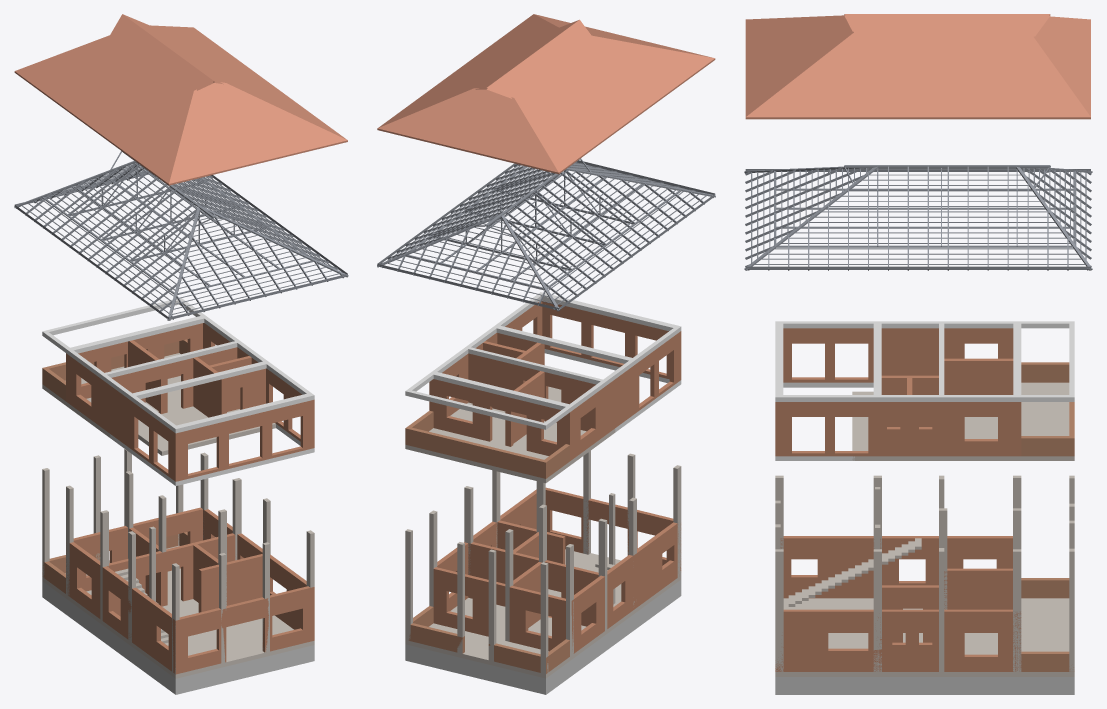
File: konkan_house_exploded.glb
3 views of the same model, side by side, from view 1: azimuth 30°, elevation 25°; view 2: azimuth 150°, elevation 25°; view 3: azimuth 270°, elevation 25° (orthographic). The views are drawn at different scales.
Parts seen in each view (by area): view 1: Hip_Roof, Living_Kitchen_South, Plinth, Floor_Slab_0, Living_Kitchen_2_South, Living_Kitchen_West, Living_Kitchen_2_West, Workshop_South, Bedroom_1_West, Bathroom_1_South, Living_Kitchen_East, Staircase_Landing_West (+39 smaller); view 2: Hip_Roof, Plinth, Living_Kitchen_West, Floor_Slab_0, Living_Kitchen_2_South, Living_Kitchen_South, Bedroom_3_North, Upper_Verandah_North, Workshop_North, Floor_Slab_1, Bedroom_1_North, Bedroom_2_North (+37 smaller); view 3: Hip_Roof, Living_Kitchen_East, Floor_Slab_0, Living_Kitchen_West, Plinth, Floor_Slab_1, Workshop_East, Bedroom_3_East, Living_Kitchen_2_East, Bathroom_2_East, Bedroom_1_East, Living_Kitchen_2_West (+30 smaller).
Boxes of the visible parts, x1=… form: Hip_Roof: x1=14, y1=14, x2=347, y2=185; Living_Kitchen_South: x1=173, y1=586, x2=314, y2=674; Plinth: x1=42, y1=581, x2=314, y2=694; Floor_Slab_0: x1=42, y1=545, x2=314, y2=678; Living_Kitchen_2_South: x1=180, y1=400, x2=310, y2=480; Living_Kitchen_West: x1=102, y1=566, x2=173, y2=671; Living_Kitchen_2_West: x1=131, y1=401, x2=179, y2=481; Workshop_South: x1=162, y1=533, x2=235, y2=606; Bedroom_1_West: x1=68, y1=542, x2=100, y2=618; Bathroom_1_South: x1=226, y1=554, x2=262, y2=605; Living_Kitchen_East: x1=237, y1=533, x2=306, y2=629; Staircase_Landing_West: x1=101, y1=379, x2=131, y2=448; Hip_Roof: x1=377, y1=14, x2=715, y2=174; Plinth: x1=405, y1=580, x2=681, y2=694; Living_Kitchen_West: x1=607, y1=522, x2=678, y2=628; Floor_Slab_0: x1=405, y1=549, x2=681, y2=678; Living_Kitchen_2_South: x1=542, y1=301, x2=681, y2=380; Living_Kitchen_South: x1=545, y1=487, x2=681, y2=570; Bedroom_3_North: x1=429, y1=379, x2=509, y2=446; Upper_Verandah_North: x1=405, y1=426, x2=548, y2=478; Workshop_North: x1=433, y1=567, x2=505, y2=636; Floor_Slab_1: x1=405, y1=402, x2=615, y2=483; Bedroom_1_North: x1=509, y1=585, x2=572, y2=651; Bedroom_2_North: x1=507, y1=397, x2=572, y2=460; Hip_Roof: x1=745, y1=14, x2=1090, y2=119; Living_Kitchen_East: x1=781, y1=609, x2=938, y2=671; Floor_Slab_0: x1=775, y1=598, x2=1074, y2=676; Living_Kitchen_West: x1=780, y1=536, x2=938, y2=598; Plinth: x1=775, y1=677, x2=1074, y2=694; Floor_Slab_1: x1=919, y1=382, x2=1074, y2=460; Workshop_East: x1=944, y1=609, x2=1015, y2=671; Bedroom_3_East: x1=944, y1=402, x2=1015, y2=456; Living_Kitchen_2_East: x1=775, y1=402, x2=874, y2=456; Bathroom_2_East: x1=880, y1=402, x2=938, y2=456; Bedroom_1_East: x1=944, y1=568, x2=1012, y2=609; Living_Kitchen_2_West: x1=783, y1=328, x2=873, y2=382.
Size of what is drawn, in the model's own units: 35.26 by 107 by 52.4.
